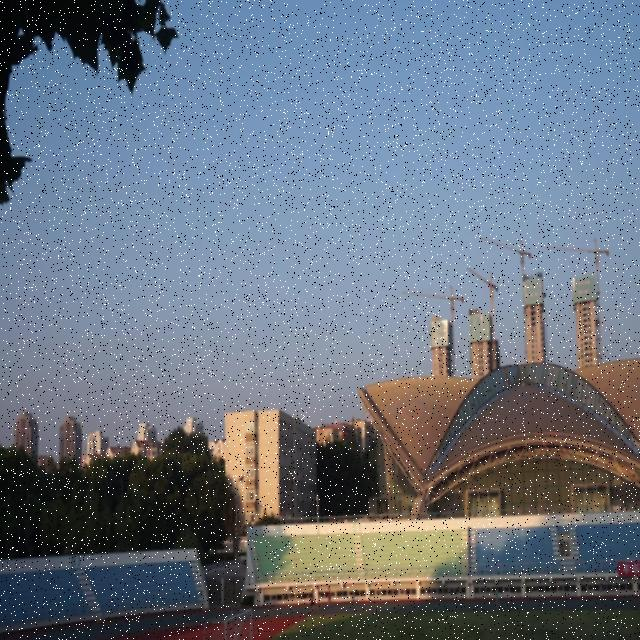UAV: (239, 473, 245, 483)
